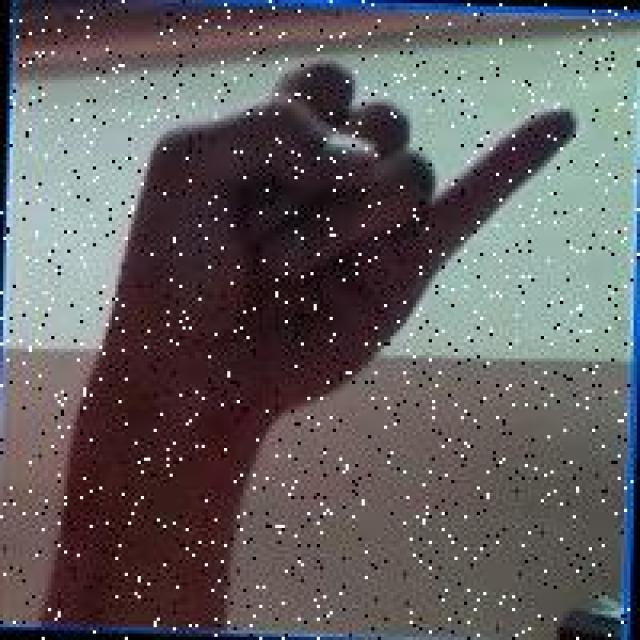J: (83, 47, 589, 450)
